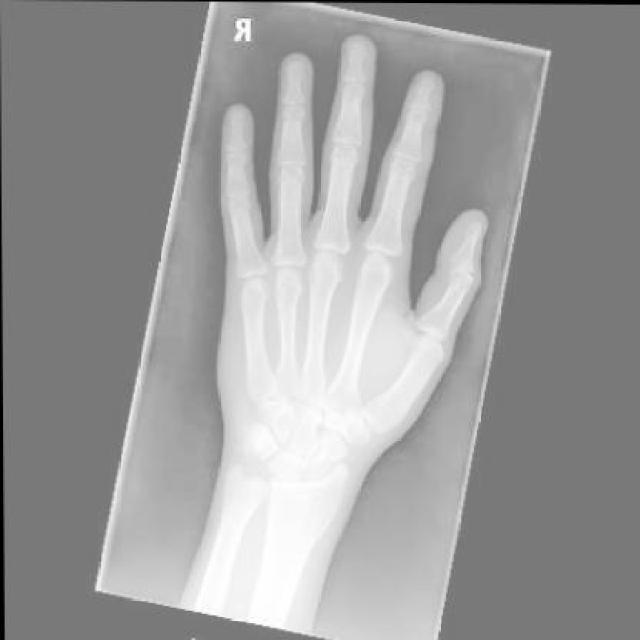Fracture: (241, 425, 268, 456)
